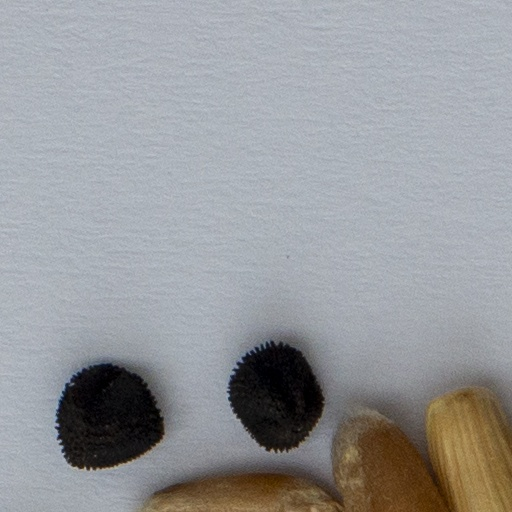Peel-poly: (427, 388, 511, 511)
